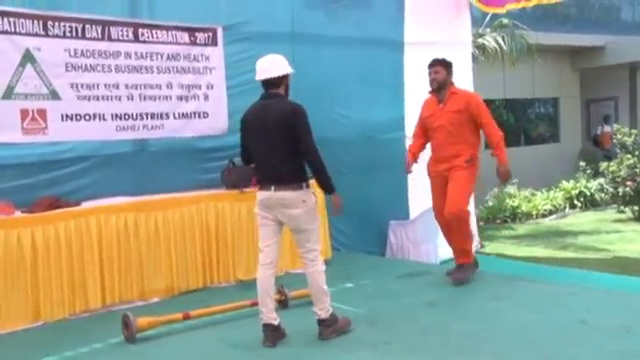helmet: (253, 51, 297, 83)
helmet_off: (423, 56, 454, 94)
helmet_on: (251, 51, 299, 99)
person: (239, 50, 353, 347), (404, 56, 514, 287), (591, 114, 620, 164)
